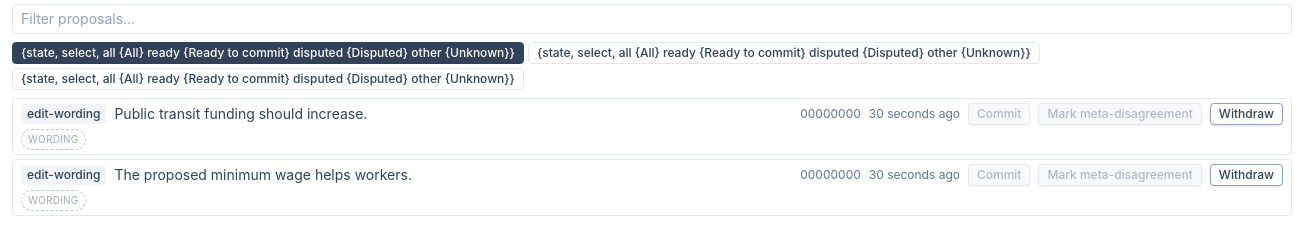
PendingProposalsPane — filter strip › (c) the × clear button appears when the input is non-empty; clicking restores the full list
Type "minimum" into the search field with test id "pending-proposals-filter-text" at (652, 19), box [12,4,1292,34]
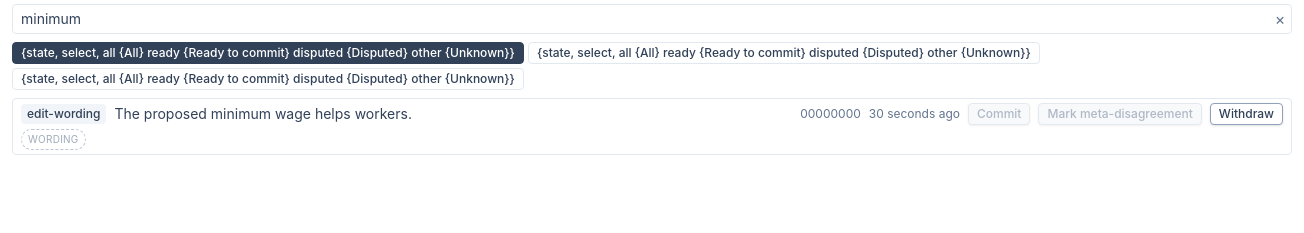
Check: the number of list items with test id "pending-proposal-row" is 1, box [12,98,1292,155]
Check: the button with test id "pending-proposals-filter-text-clear" is shown
Click the button with test id "pending-proposals-filter-text-clear" at (1280, 19), box [1272,11,1288,27]
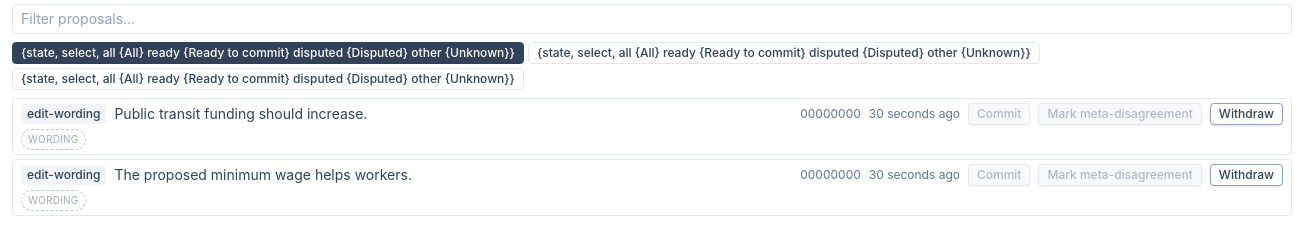
Check: the number of list items with test id "pending-proposal-row" is 2, box [12,98,1292,155]; [12,159,1292,216]
Check: the button with test id "pending-proposals-filter-text-clear" is gone
Check: the search field with test id "pending-proposals-filter-text" is empty, box [12,4,1292,34]
